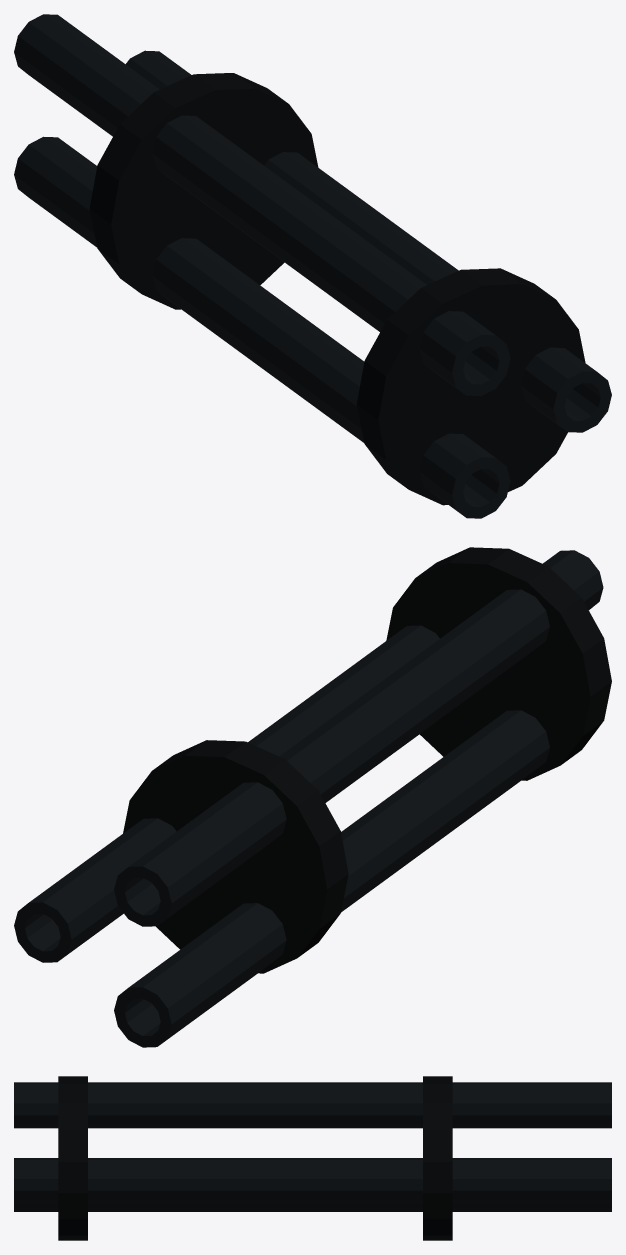
Rendered from Rotary127__Rotor.obj.
The picture shows the model from 3 angles, top to bottom: view 1: azimuth 30°, elevation 25°; view 2: azimuth 150°, elevation 25°; view 3: azimuth 270°, elevation 25°; orthographic projection. The views are drawn at different scales.
Parts seen in each view (by area): view 1: Barrel_02, Rotor_barrel_clamp, Barrel_03, Rotor_barrel_clamp.001, Barrel_01; view 2: Barrel_02, Barrel_03, Rotor_barrel_clamp.001, Rotor_barrel_clamp, Barrel_01; view 3: Barrel_02, Barrel_01, Rotor_barrel_clamp, Rotor_barrel_clamp.001, Barrel_03.
Part boxes in pixels (bbox=[...]): Barrel_02: bbox=[14, 14, 510, 396]; Rotor_barrel_clamp: bbox=[356, 268, 585, 505]; Barrel_03: bbox=[14, 136, 510, 518]; Rotor_barrel_clamp.001: bbox=[89, 73, 318, 309]; Barrel_01: bbox=[126, 50, 611, 432]; Barrel_02: bbox=[114, 550, 603, 926]; Barrel_03: bbox=[114, 710, 549, 1047]; Rotor_barrel_clamp.001: bbox=[123, 740, 348, 973]; Rotor_barrel_clamp: bbox=[386, 547, 611, 780]; Barrel_01: bbox=[14, 625, 439, 962]; Barrel_02: bbox=[14, 1082, 611, 1128]; Barrel_01: bbox=[14, 1158, 611, 1203]; Rotor_barrel_clamp: bbox=[58, 1076, 87, 1240]; Rotor_barrel_clamp.001: bbox=[423, 1076, 452, 1240]; Barrel_03: bbox=[14, 1204, 611, 1211].
Size of the model in its own units: 0.2775 by 0.2775 by 1.01.
